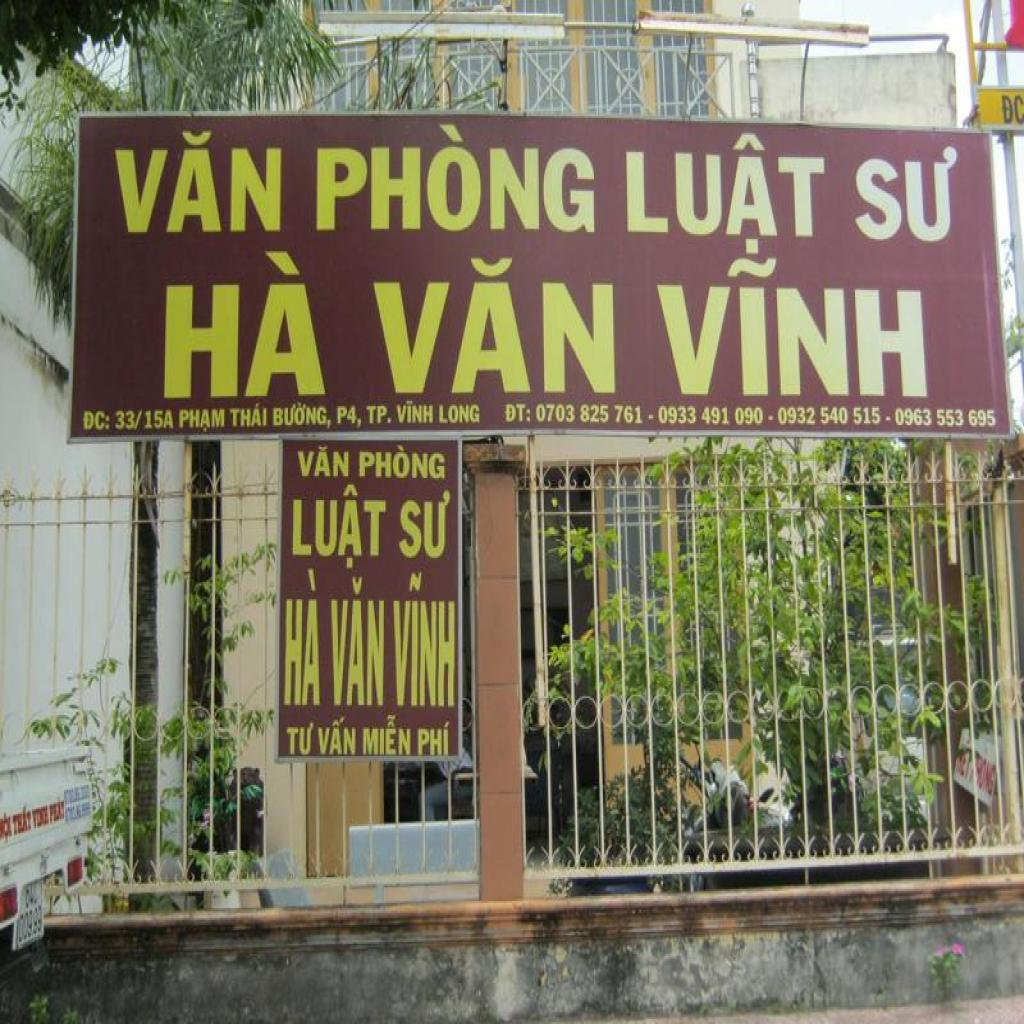text: (641, 249, 933, 401), (365, 254, 618, 400), (308, 121, 600, 241), (616, 128, 838, 258), (163, 248, 330, 400), (106, 128, 286, 239), (850, 144, 962, 248), (392, 570, 458, 710), (290, 483, 392, 570), (328, 574, 389, 712), (280, 568, 325, 710), (394, 486, 454, 565), (356, 442, 449, 486), (535, 401, 657, 430), (658, 402, 777, 426), (777, 404, 892, 428), (894, 406, 998, 430), (360, 714, 414, 760), (294, 445, 351, 483), (272, 399, 336, 432), (114, 406, 177, 434), (316, 715, 357, 758), (176, 405, 226, 435), (416, 720, 453, 758), (230, 399, 269, 430), (439, 401, 483, 427), (284, 722, 315, 758), (394, 398, 435, 425), (10, 802, 35, 842), (1001, 92, 1024, 130), (503, 401, 534, 427), (80, 410, 112, 434), (336, 403, 364, 430), (366, 401, 394, 427), (31, 802, 51, 831), (50, 795, 66, 826), (3, 812, 14, 845)
